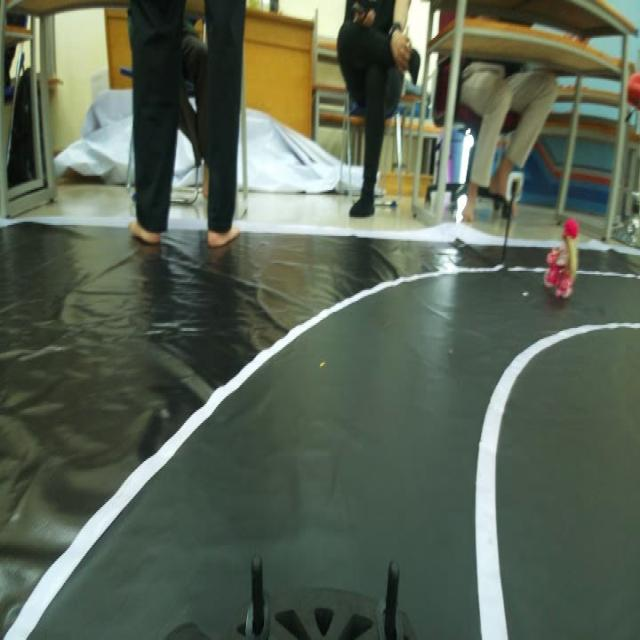pedestrian: (546, 216, 580, 307)
